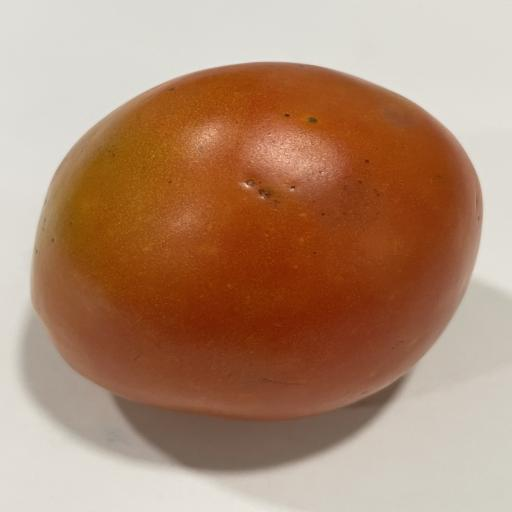unripe: (32, 62, 482, 420)
